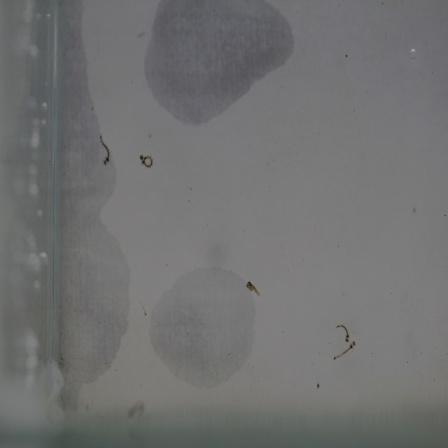Jentik-Nyamuk: (329, 319, 359, 365), (93, 132, 115, 171), (243, 274, 265, 304), (136, 150, 157, 175)
